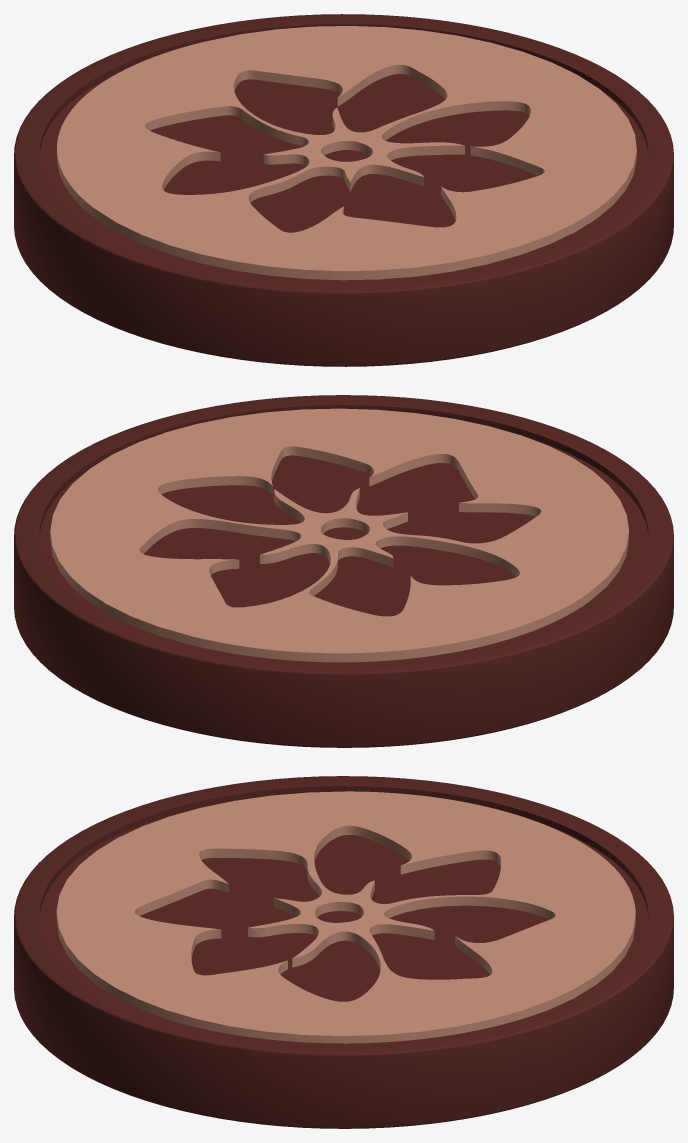
Rendered from Jasmine_R.fbx.
The picture shows the model from 3 angles, top to bottom: view 1: azimuth 30°, elevation 25°; view 2: azimuth 150°, elevation 25°; view 3: azimuth 270°, elevation 25°; orthographic projection.
Parts seen in each view (by area): view 1: Tile02; view 2: Tile02; view 3: Tile02.
Boxes of the visible parts, x1,y1,x2,y2 form: Tile02: (14,14,673,366); Tile02: (14,395,673,747); Tile02: (14,776,673,1128).
Bounding box in the file's own units: 13.25 × 1.73 × 13.25.
